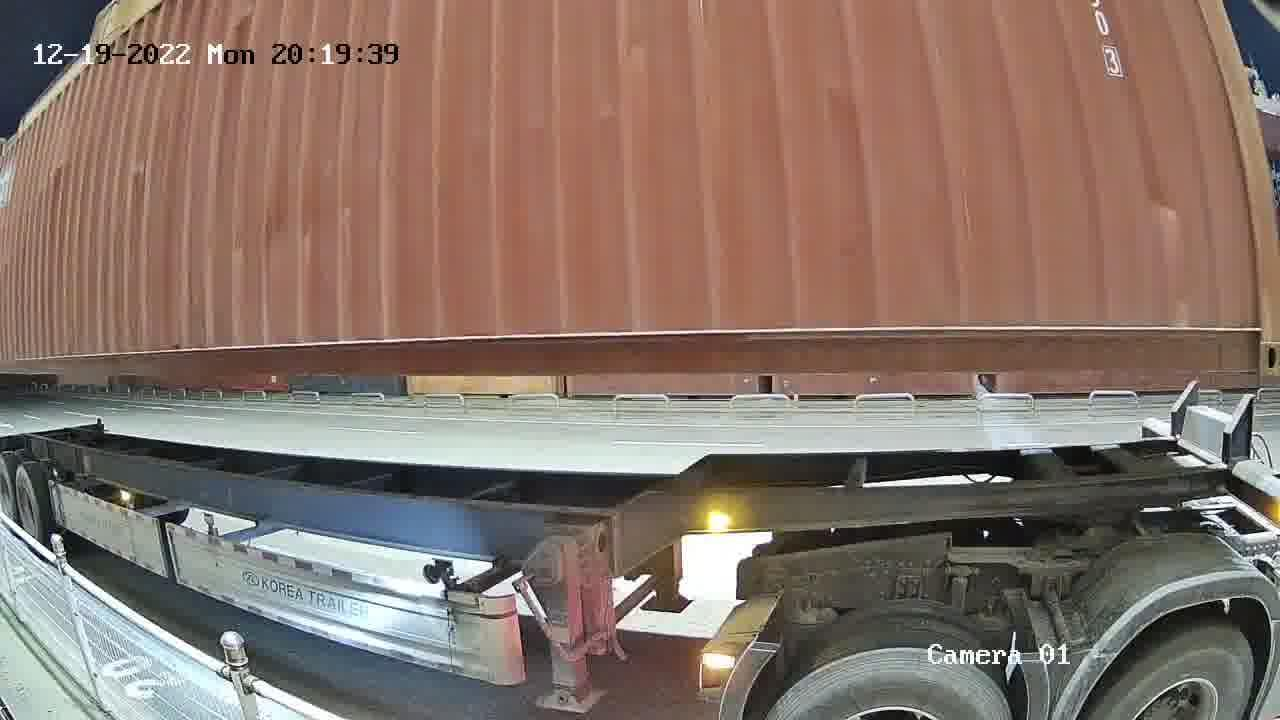Chassis: (1141, 415, 1279, 509)
Hole_R: (1214, 298, 1279, 375)
Tire: (775, 645, 1011, 718), (1098, 629, 1252, 715)
